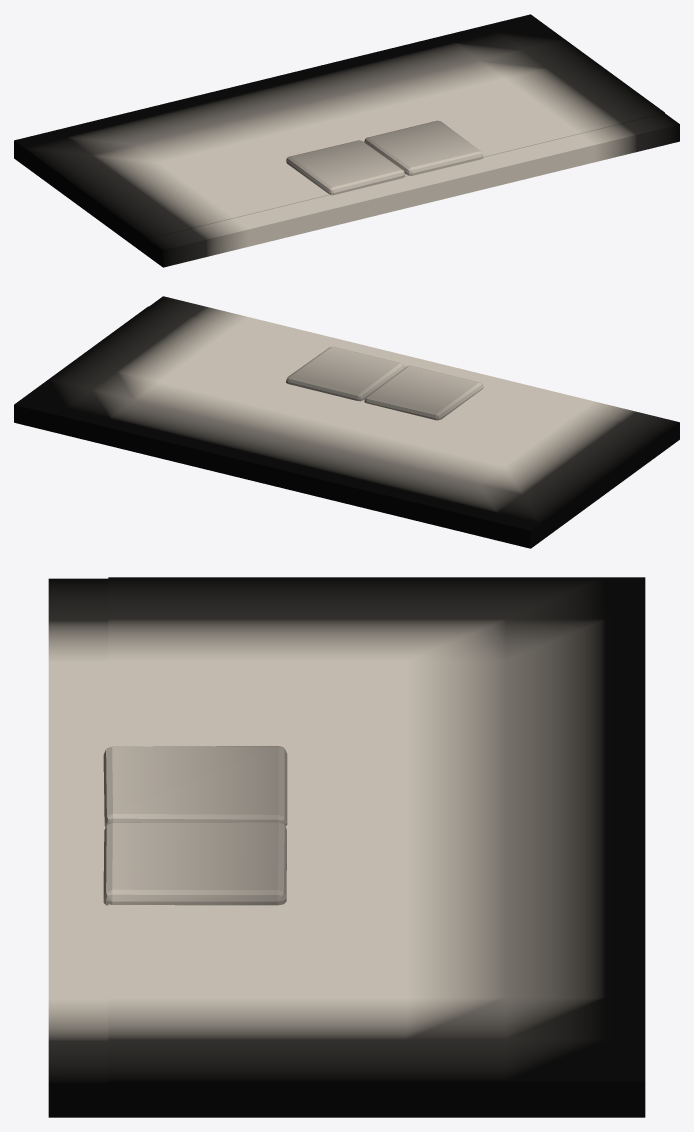
File: SM_VKI_Apron_300x150.fbx
3 renders of one model, top to bottom at view 1: azimuth 30°, elevation 25°; view 2: azimuth 150°, elevation 25°; view 3: azimuth 270°, elevation 25°, orthographic. The views are drawn at different scales.
Visible parts, largest first — view 1: SM_VKI_Apron_300x150.001; view 2: SM_VKI_Apron_300x150.001; view 3: SM_VKI_Apron_300x150.001.
Boxes of the visible parts, x1=… form: SM_VKI_Apron_300x150.001: x1=14, y1=14, x2=679, y2=267; SM_VKI_Apron_300x150.001: x1=14, y1=296, x2=679, y2=548; SM_VKI_Apron_300x150.001: x1=48, y1=577, x2=645, y2=1117.
Bounding box in the file's own units: 3 × 0.1324 × 1.5.
